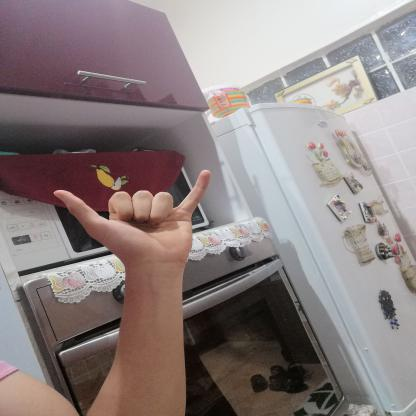YA: (43, 161, 220, 280)
